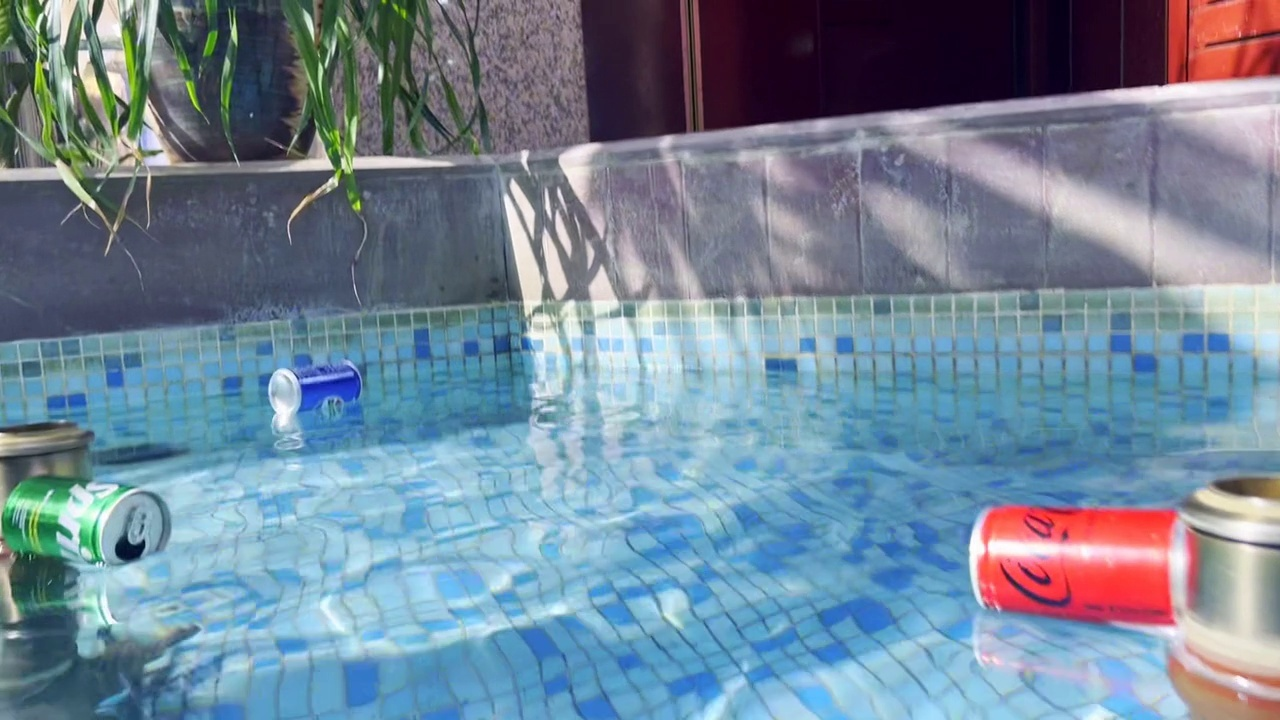debris: (956, 486, 1211, 639), (0, 465, 183, 576), (251, 349, 371, 422)
